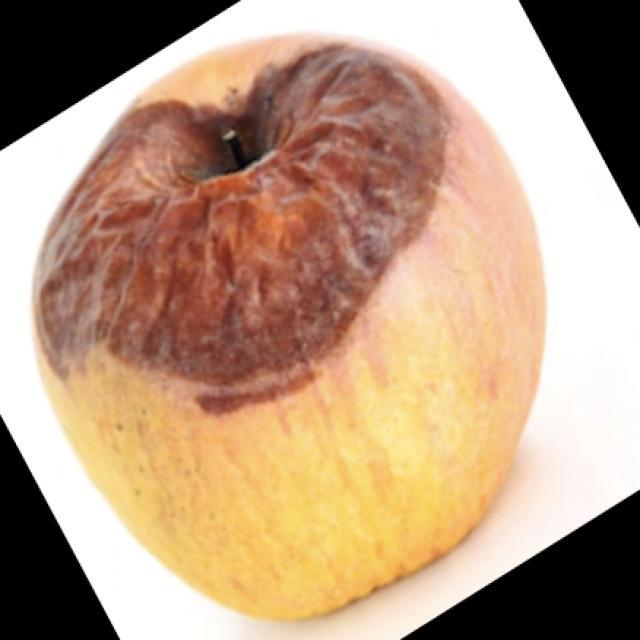Rotten: (78, 35, 535, 612)
